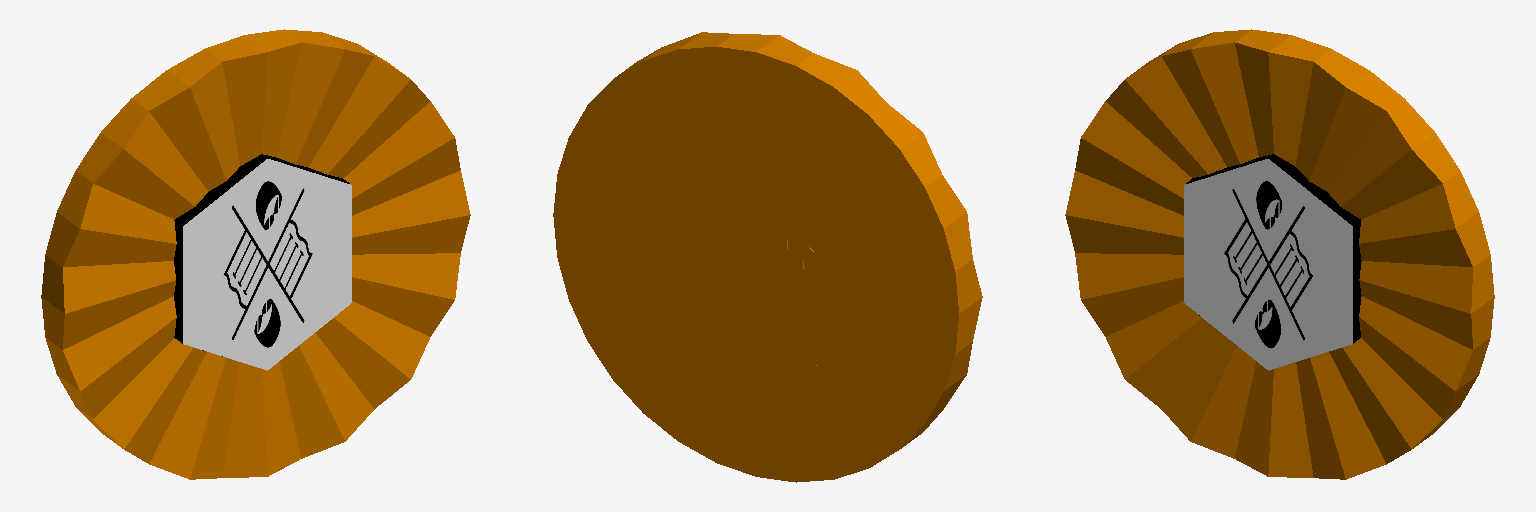
3 renders of one model, left to right at view 1: azimuth 30°, elevation 25°; view 2: azimuth 150°, elevation 25°; view 3: azimuth 330°, elevation 25°, orthographic.
Parts seen in each view (by area): view 1: Cylinder; view 2: Cylinder; view 3: Cylinder.
Boxes of the visible parts, <box> form: Cylinder: <box>41,29,470,479</box>; Cylinder: <box>553,32,982,482</box>; Cylinder: <box>1065,29,1494,479</box>.
Bounding box in the file's own units: 10 × 10 × 1.
Materials: 3 (1 with a texture image).